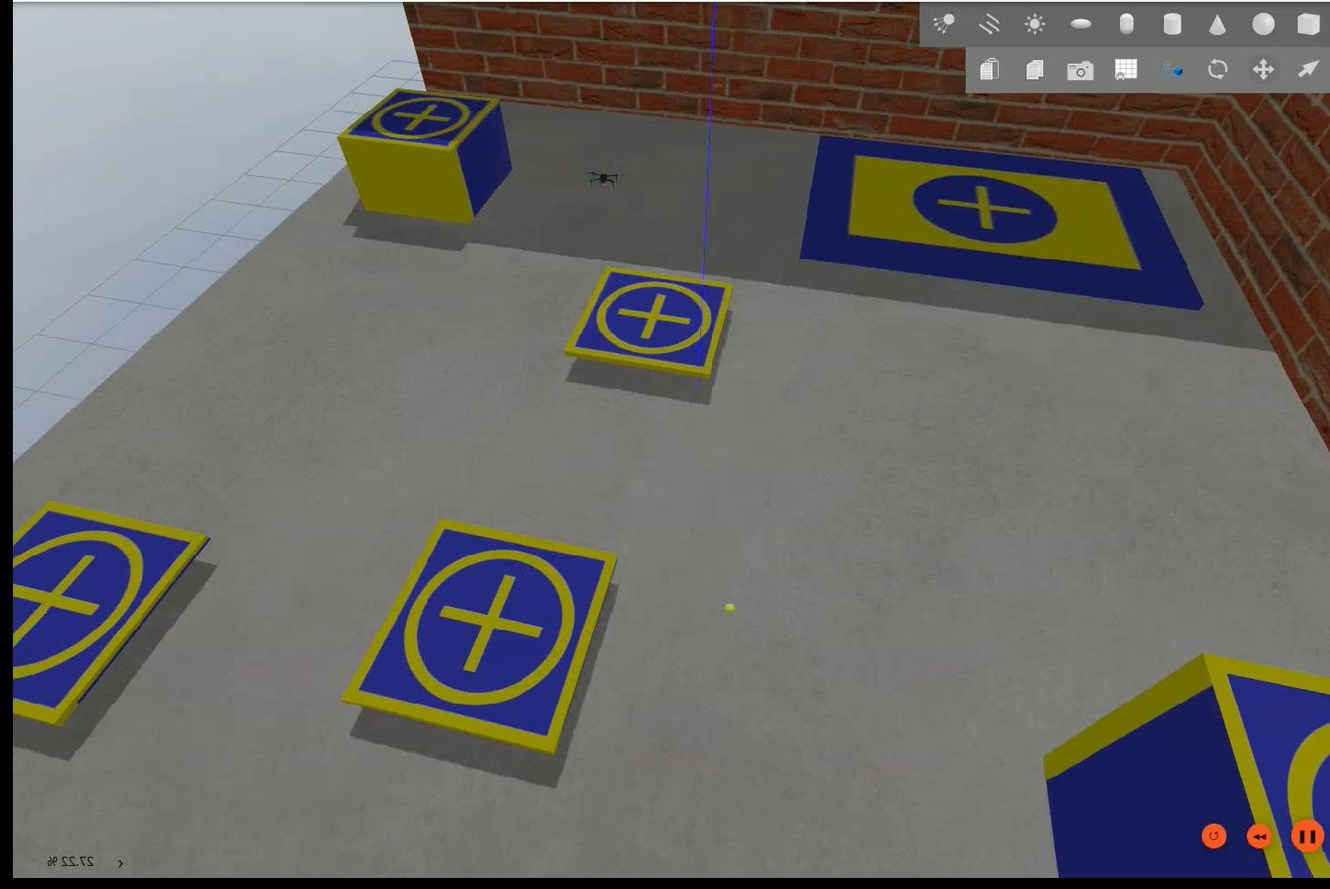large_base: (794, 138, 1202, 314)
small_base: (336, 516, 616, 753), (10, 499, 212, 729), (1196, 652, 1328, 878), (563, 266, 734, 382), (332, 87, 499, 153)
